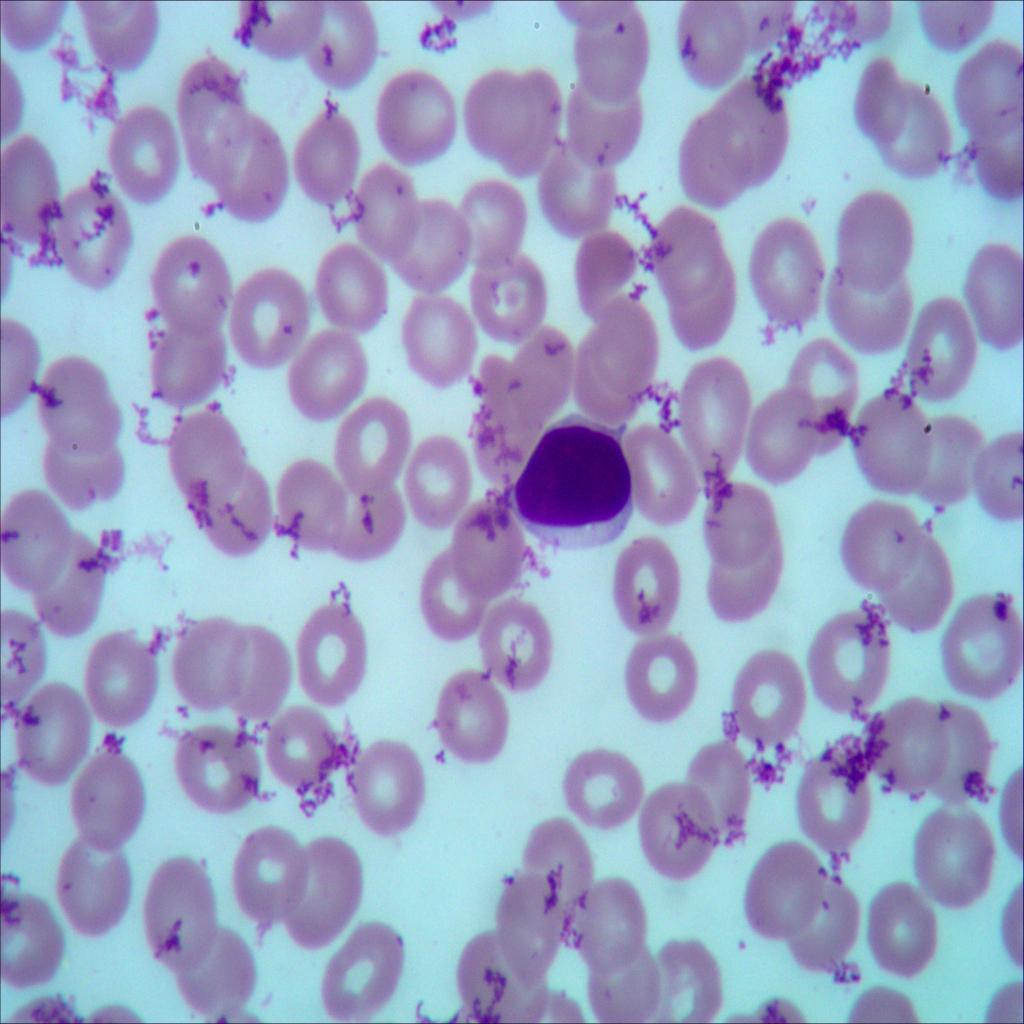Limfoblast: (514, 415, 637, 548)
